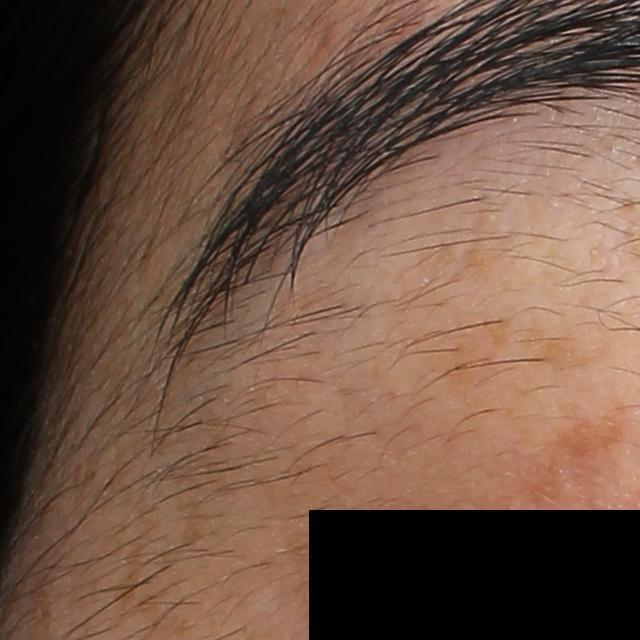melasma: (546, 401, 631, 461), (533, 332, 613, 373)
